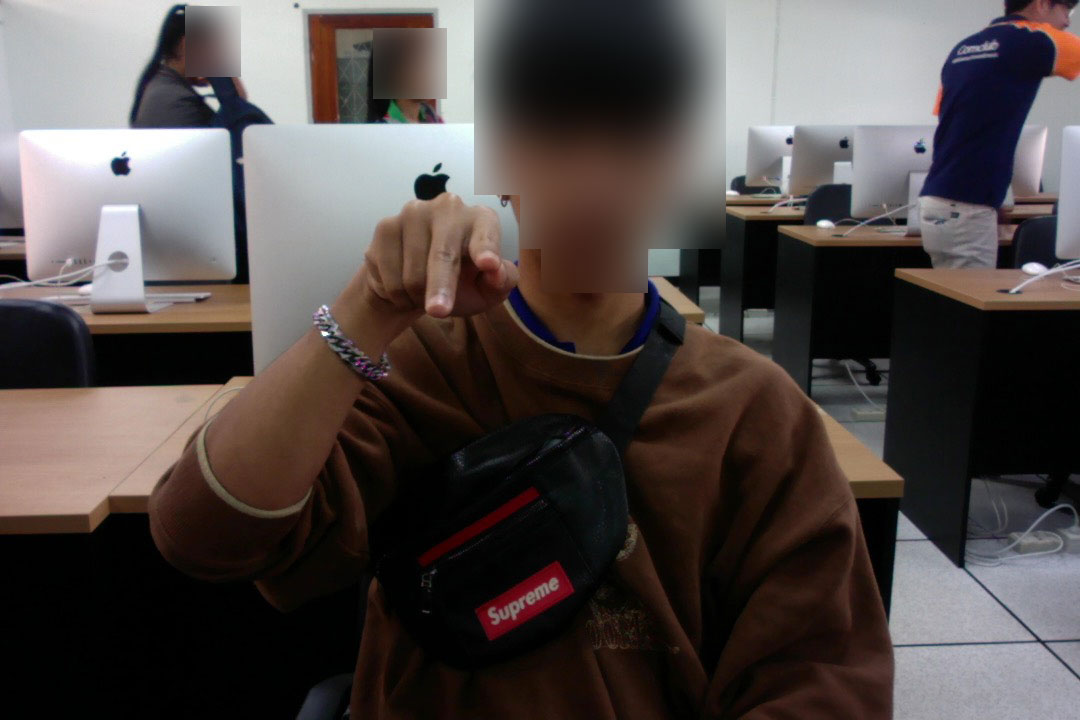por: (352, 181, 520, 331)
